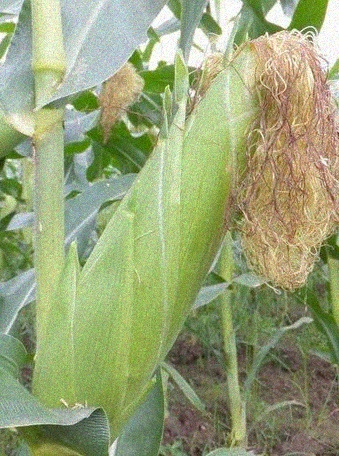corn_plant: (23, 17, 339, 448)
